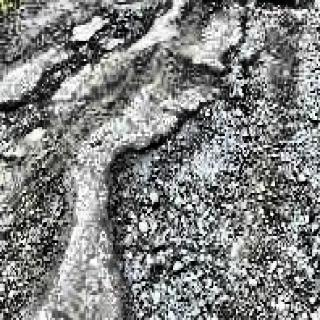pothole: (108, 96, 256, 320), (0, 4, 166, 114)
